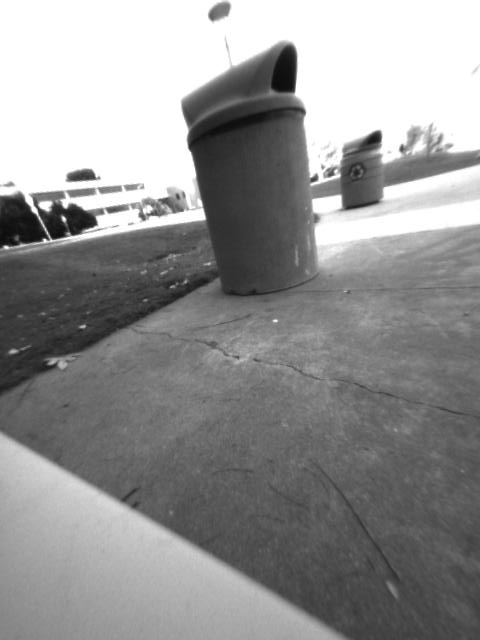trashcan: (179, 40, 327, 301)
